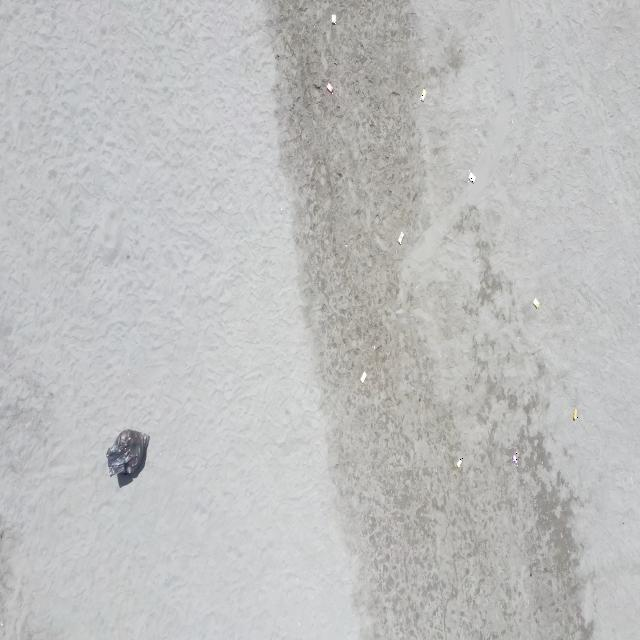retort-pouch: (468, 170, 476, 186), (420, 88, 427, 106), (398, 231, 406, 246), (360, 369, 368, 384), (571, 407, 579, 422), (330, 12, 337, 26), (533, 296, 540, 310), (512, 452, 519, 466), (326, 82, 333, 94), (456, 458, 463, 470)
